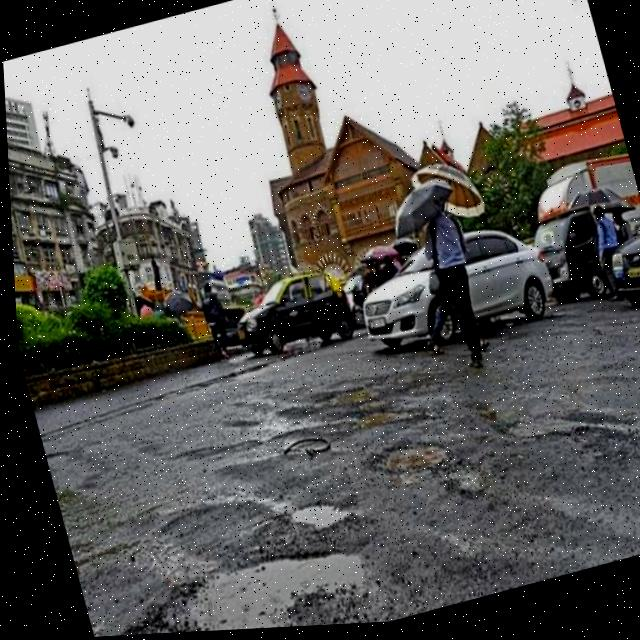Pothole: (174, 522, 374, 634), (362, 430, 448, 494), (276, 488, 351, 547), (310, 378, 386, 421), (342, 403, 408, 442)
